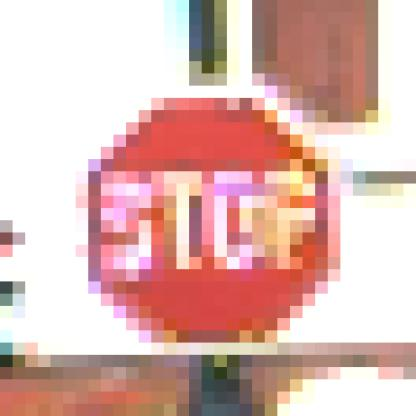stop: (62, 96, 361, 357)
